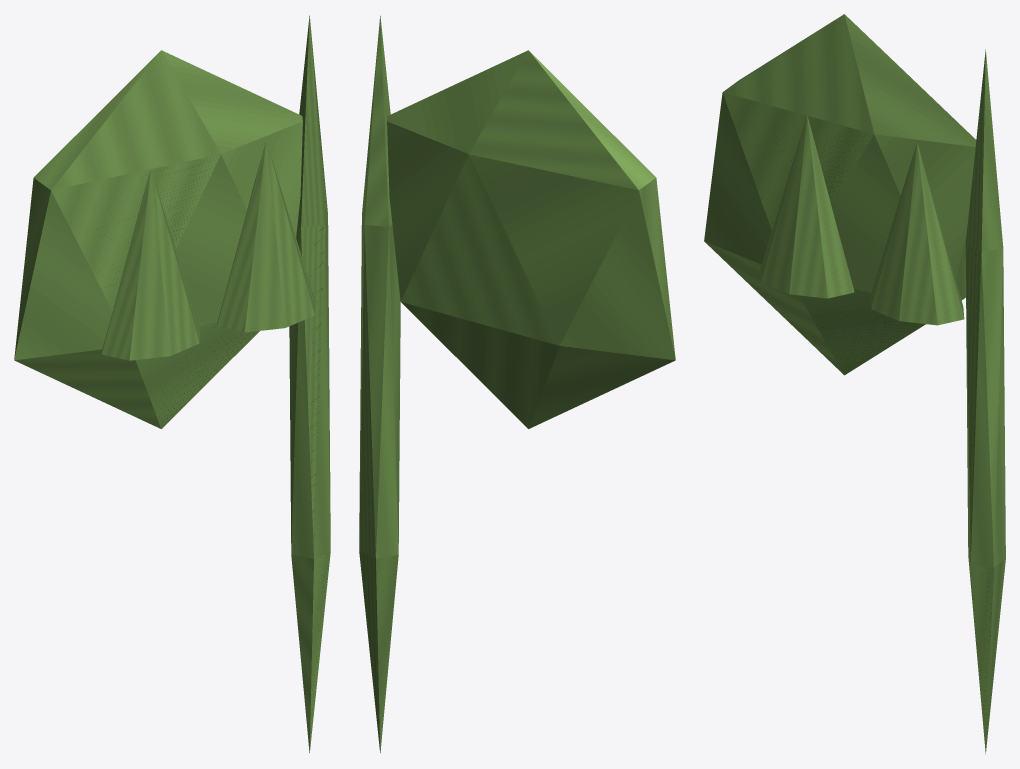
Rendered from comrade_oath.glb.
The picture shows the model from 3 angles, left to right: view 1: azimuth 30°, elevation 25°; view 2: azimuth 150°, elevation 25°; view 3: azimuth 330°, elevation 25°; orthographic projection. The views are drawn at different scales.
Parts seen in each view (by area): view 1: gear_comrade_oath; view 2: gear_comrade_oath; view 3: gear_comrade_oath.
Part boxes in pixels (bbox=[...]): gear_comrade_oath: bbox=[14, 15, 330, 752]; gear_comrade_oath: bbox=[359, 15, 675, 752]; gear_comrade_oath: bbox=[704, 14, 1005, 754].
Size of the model in its own units: 0.3812 by 0.86 by 0.0998.
Materials: 1 (1 with a texture image).
